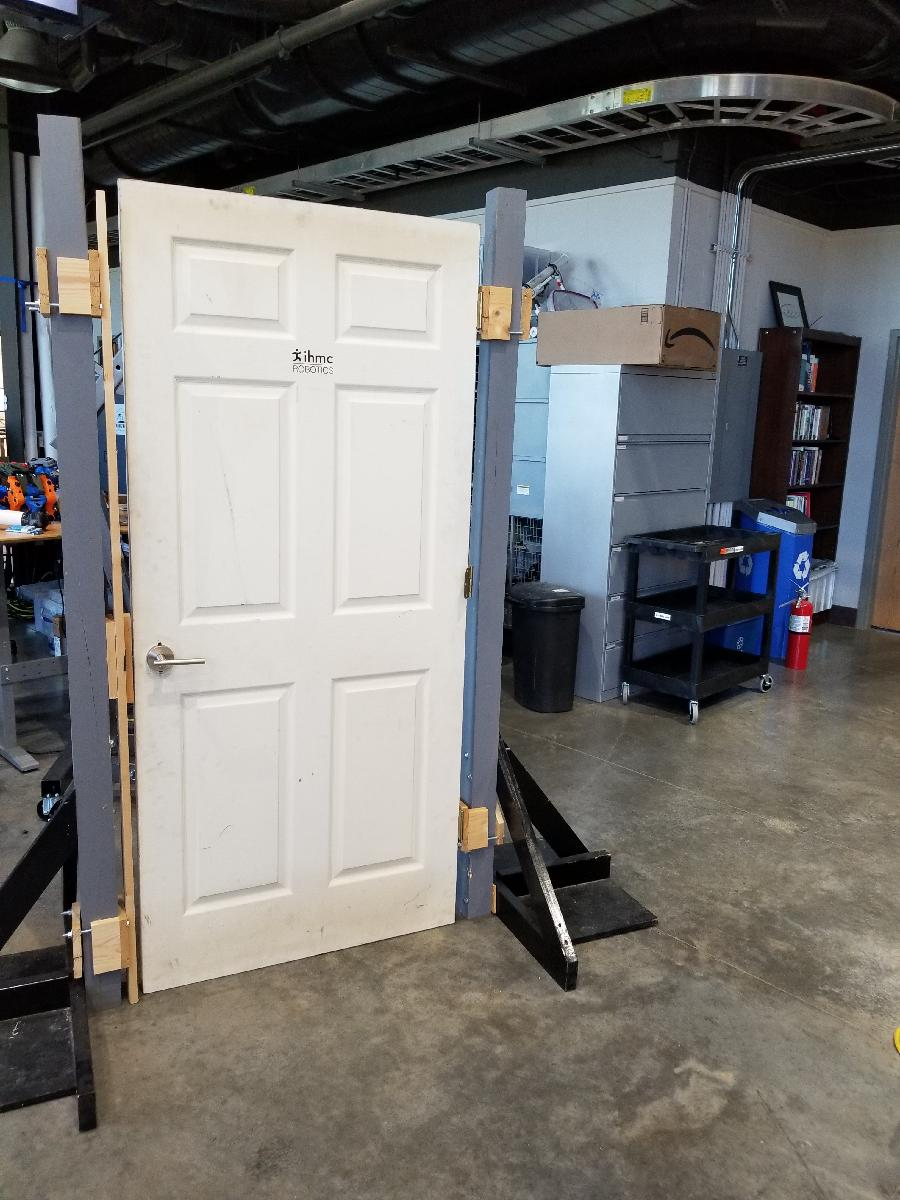door: (113, 170, 489, 999)
doorHandle: (143, 644, 215, 676)
